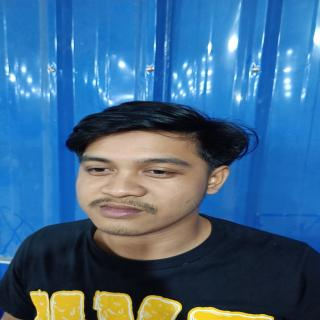Netral: (70, 124, 212, 241)
